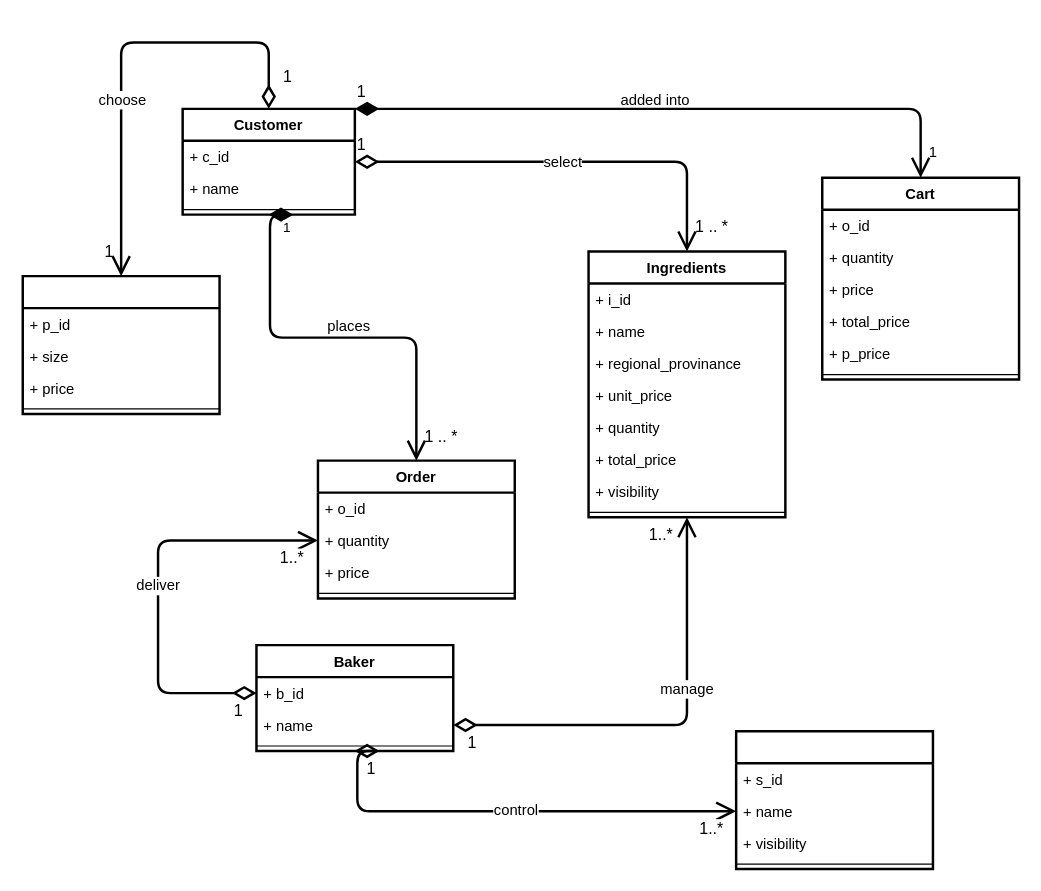
Image size: 1041x891. Some labels were removed from this diagram. The shapes that lost their labels are listed below. From the top down, each one's box as (x1, y1, x2, y2) in pixels, then its label:
(21, 274, 220, 415): Pizza
(734, 729, 934, 870): Supplier
